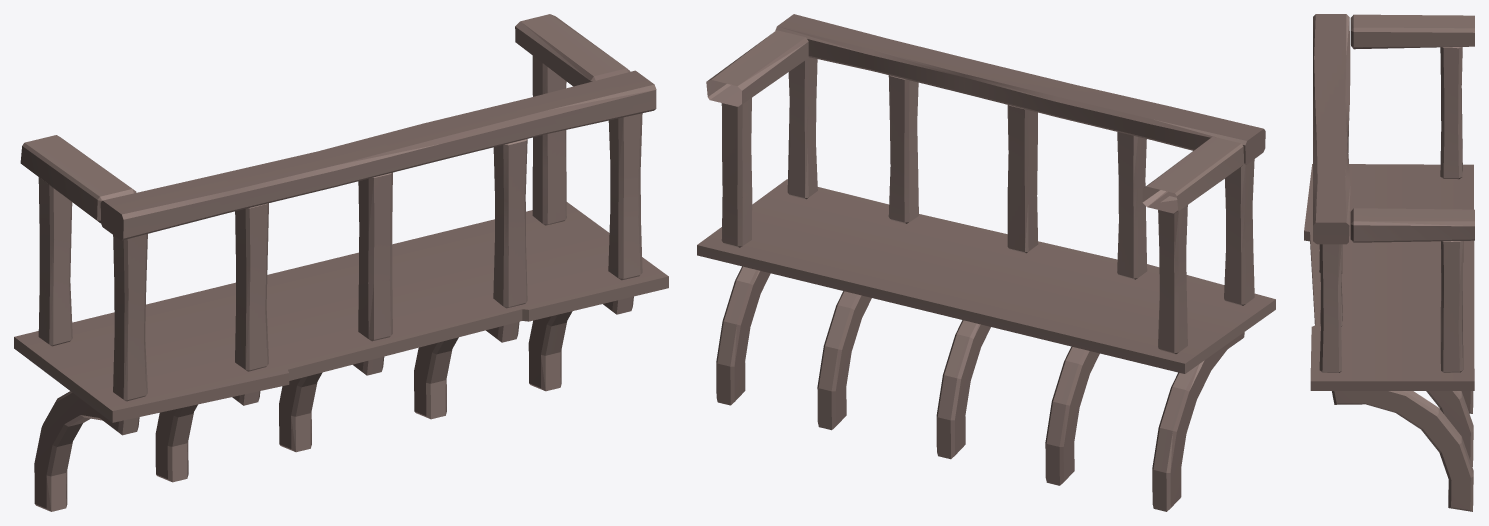
The model's file is balcony_big.fbx.
The picture shows the model from 3 angles, left to right: view 1: azimuth 30°, elevation 25°; view 2: azimuth 150°, elevation 25°; view 3: azimuth 270°, elevation 25°; orthographic projection. The views are drawn at different scales.
Parts seen in each view (by area): view 1: balcony_B; view 2: balcony_B; view 3: balcony_B.
Boxes of the visible parts, x1,y1,x2,y2 form: balcony_B: [14, 14, 668, 511]; balcony_B: [697, 14, 1275, 511]; balcony_B: [1304, 14, 1474, 511].
Size of the model in its own units: 3.36 by 2.12 by 1.12.
